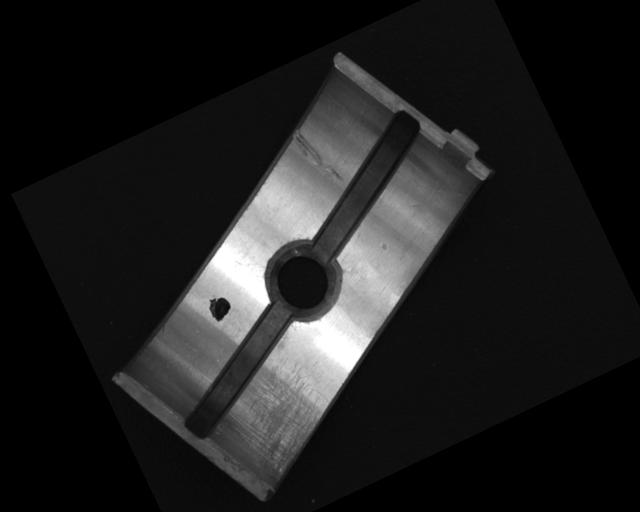blot: (203, 291, 236, 325)
bruise: (377, 238, 389, 252)
gap: (277, 108, 454, 264), (154, 298, 323, 443)
hole: (255, 231, 353, 332)
nick: (288, 119, 343, 192)
scratch: (212, 348, 347, 486)
